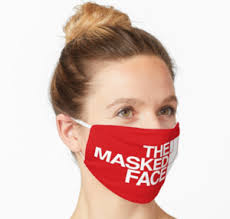mask: (85, 123, 180, 203)
